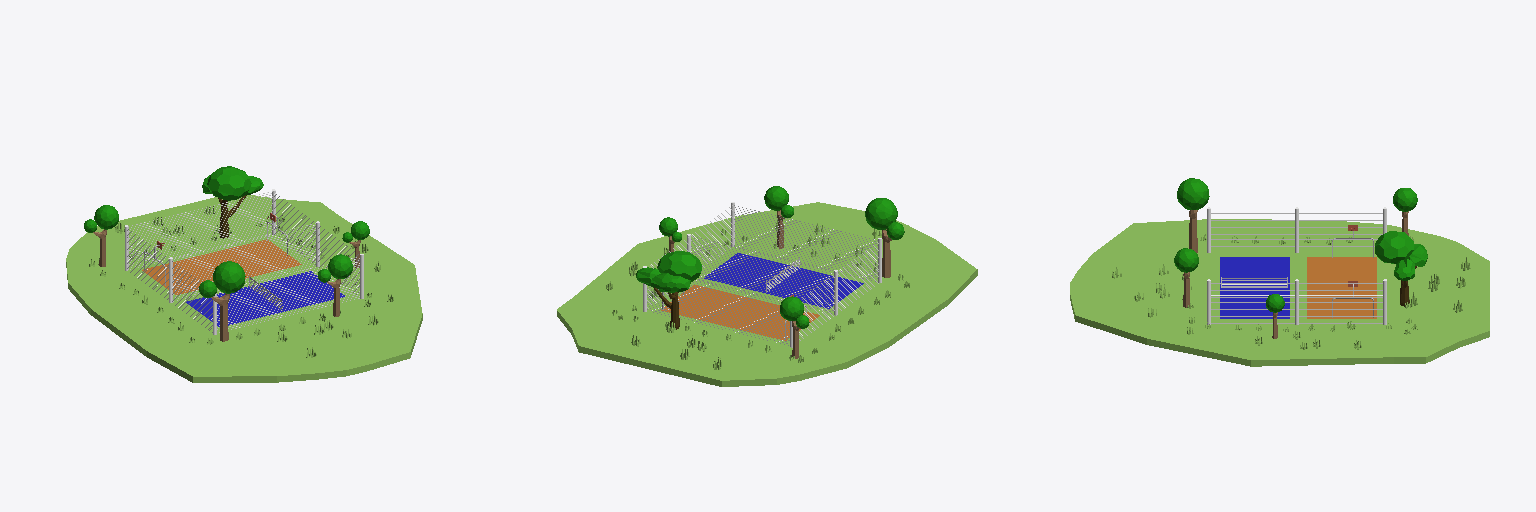
File: Courts.obj
3 views of the same model, side by side, from view 1: azimuth 30°, elevation 25°; view 2: azimuth 150°, elevation 25°; view 3: azimuth 270°, elevation 25° (orthographic).
Visible parts, largest first — view 1: Cube, Plane.1, Plane, Platonic, Icosphere_Icosphere_002_2; view 2: Cube, Plane.1, Plane, Platonic, Icosphere_Icosphere_002_2, Platonic.1; view 3: Cube, Plane, Plane.1, Platonic, Icosphere_Icosphere_002_2.
Part boxes in pixels (bbox=[...]): Cube: bbox=[66, 195, 422, 382]; Plane.1: bbox=[186, 271, 344, 326]; Plane: bbox=[142, 239, 301, 294]; Platonic: bbox=[207, 166, 251, 200]; Icosphere_Icosphere_002_2: bbox=[213, 261, 245, 293]; Cube: bbox=[557, 202, 977, 386]; Plane.1: bbox=[704, 253, 863, 308]; Plane: bbox=[660, 285, 819, 340]; Platonic: bbox=[657, 251, 701, 281]; Icosphere_Icosphere_002_2: bbox=[865, 198, 897, 229]; Platonic.1: bbox=[651, 273, 690, 292]; Cube: bbox=[1070, 219, 1489, 366]; Plane: bbox=[1307, 257, 1376, 318]; Plane.1: bbox=[1220, 257, 1289, 318]; Platonic: bbox=[1375, 231, 1413, 263]; Icosphere_Icosphere_002_2: bbox=[1177, 178, 1209, 209].
Size of the model in its own units: 523 by 146 by 657.